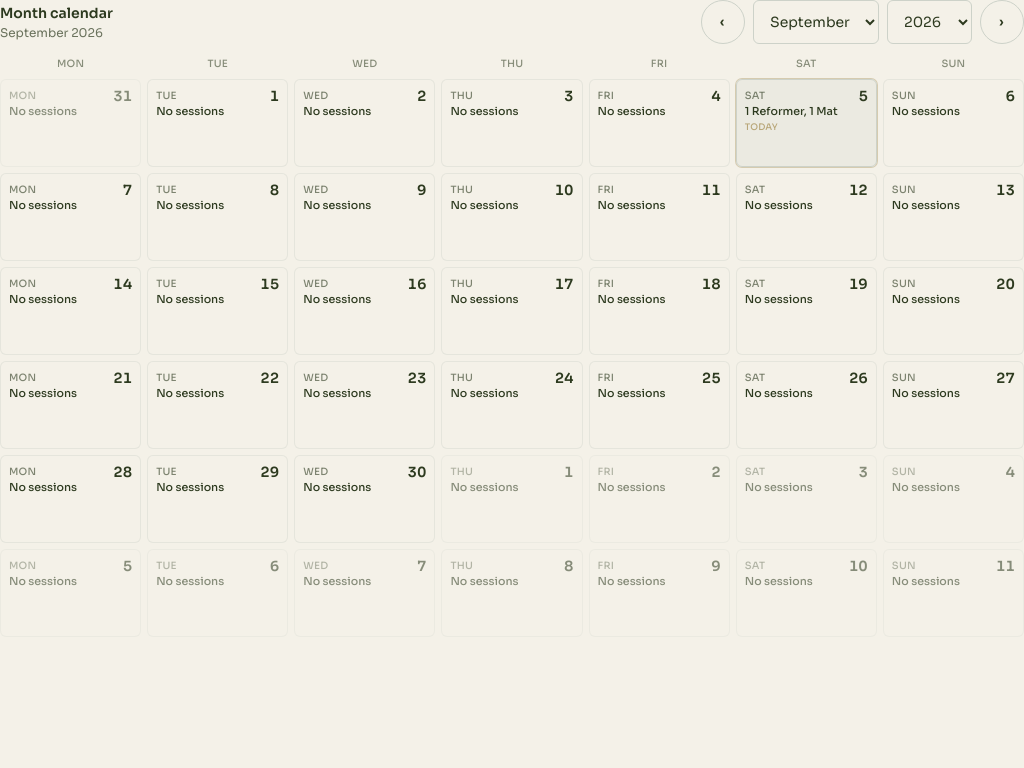
it: MonthCalendarSection › opens the day popup with 24 hour rows and Reformer before Mat
Step 1. Click the button with aria-label "5 September, 1 Reformer, 1 Mat" → click(806, 123), box x1=736 y1=79 x2=877 y2=167
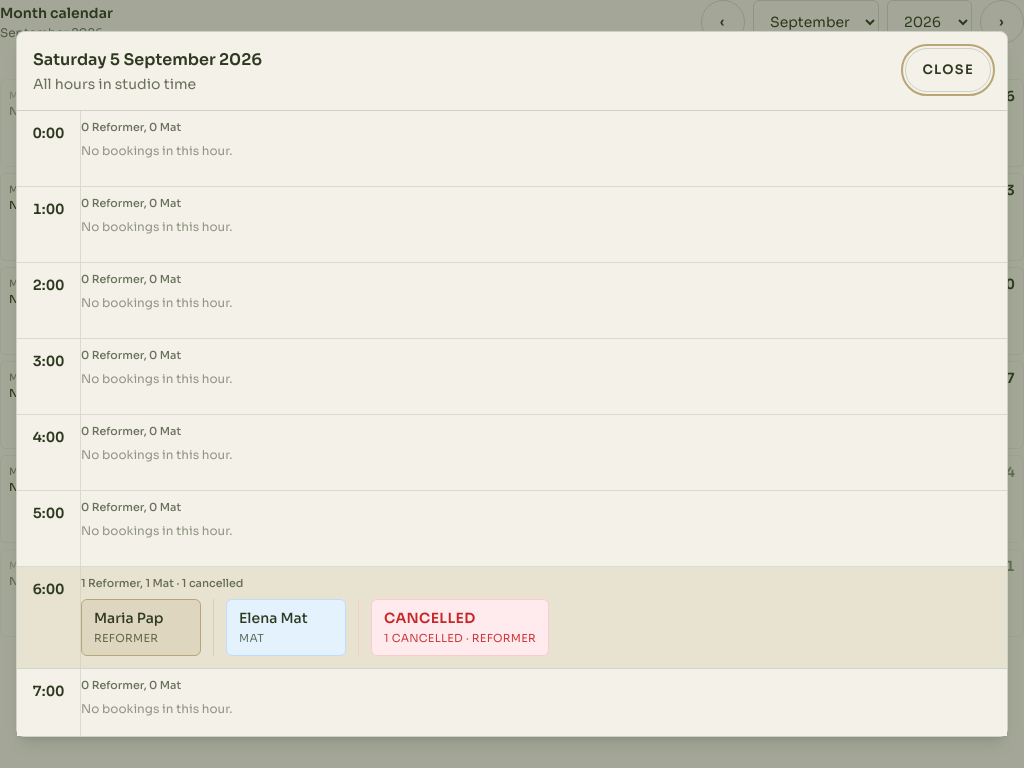
Expected: the text "0:00" is shown, x1=32 y1=123 x2=65 y2=143
Expected: the text "6:00" is shown, x1=32 y1=579 x2=65 y2=599
Expected: the text "0 Reformer, 0 Mat" next to "0:00" is shown, x1=81 y1=120 x2=181 y2=134
Step 2. Click the button with aria-label "Cancelled, 1 cancelled" → click(460, 627), box x1=371 y1=599 x2=549 y2=656
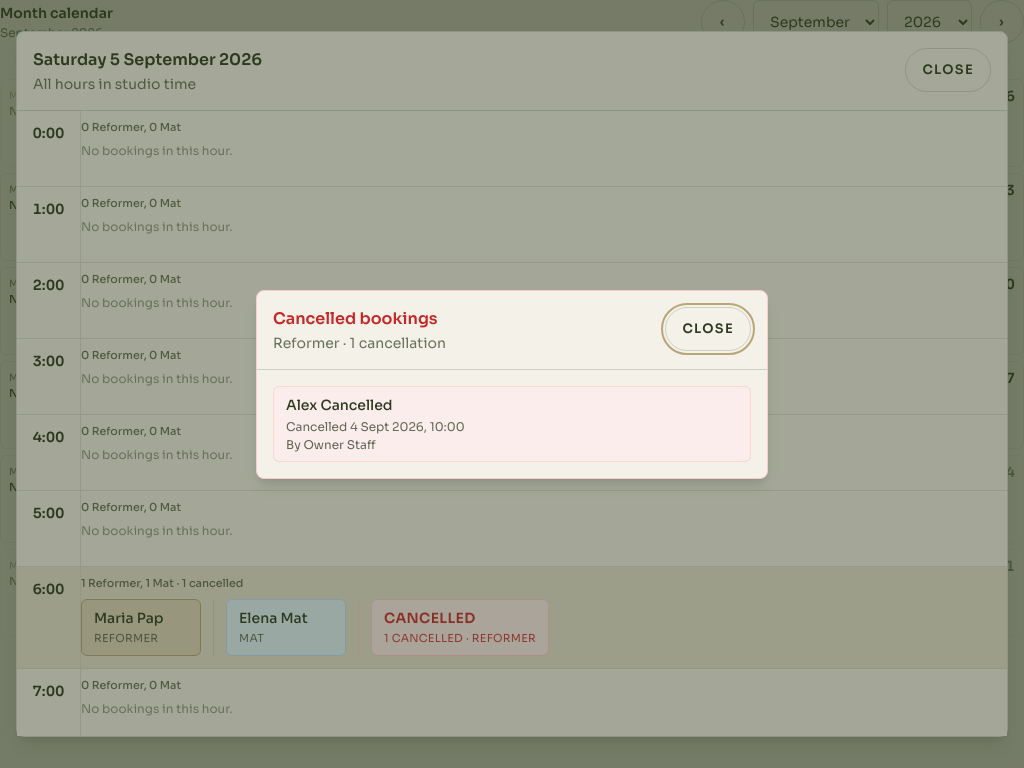
Expected: the heading "Cancelled bookings" is shown, x1=273 y1=306 x2=446 y2=330
Expected: the text "Alex Cancelled" is shown, x1=286 y1=396 x2=393 y2=414
Expected: the text "By Owner Staff" is shown, x1=286 y1=436 x2=376 y2=452
